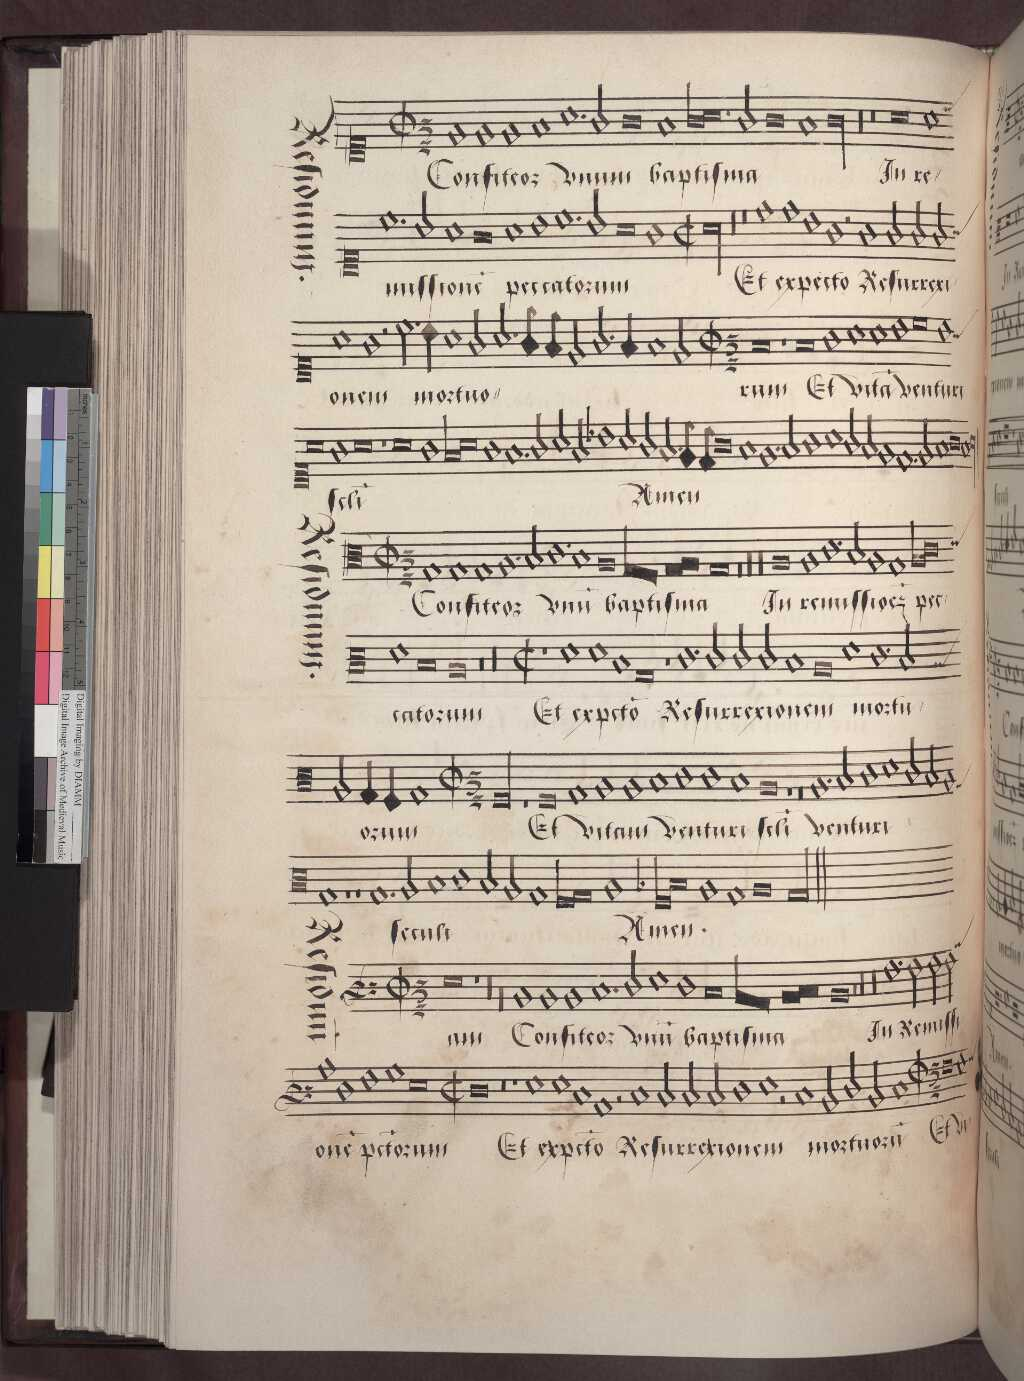barline: (811, 836, 835, 893)
breve_9: (748, 872, 777, 907)
c clef_7: (286, 869, 314, 909)
flat_8: (628, 868, 648, 899)
l1semibreve_11: (650, 849, 669, 917), (551, 871, 577, 916)
l2breve_8: (668, 869, 689, 909)
l2semibreve_10: (569, 881, 596, 908)
longa_10: (783, 837, 813, 895)
minim_8: (477, 844, 500, 901)
minim_9: (502, 844, 523, 907), (400, 846, 422, 906)
point: (384, 883, 403, 896)
semibreve rest: (352, 869, 366, 914), (341, 869, 354, 916)
semibreve_10: (366, 871, 390, 919), (315, 875, 342, 917), (527, 873, 551, 915), (719, 888, 746, 916)
semibreve_7: (450, 857, 474, 899)
semibreve_8: (424, 869, 449, 905)
semibreve_9: (600, 870, 628, 911), (696, 869, 722, 896)
